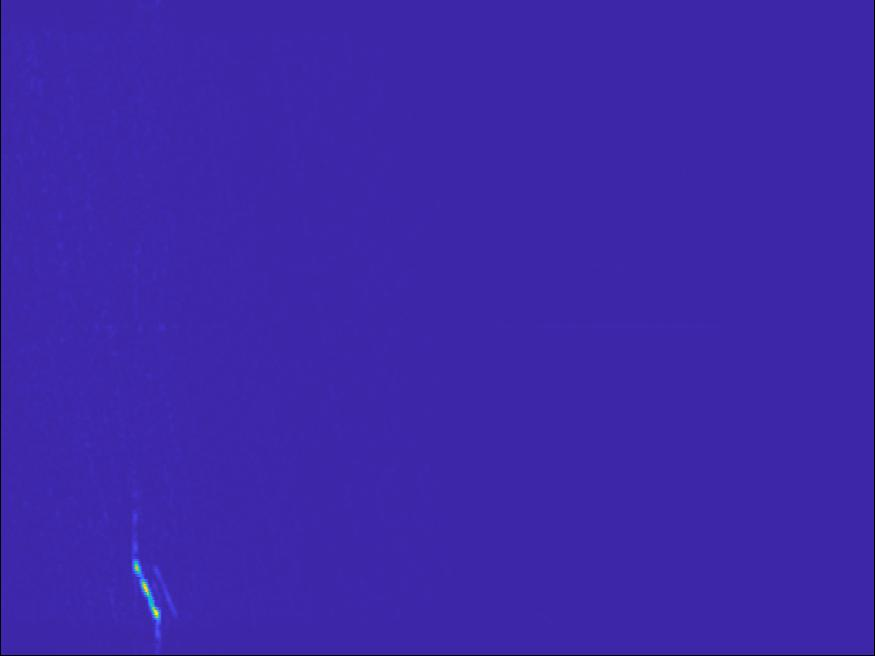Interference: (492, 191, 682, 308), (345, 298, 570, 355), (350, 381, 456, 428), (1, 182, 113, 220), (43, 356, 106, 396)
